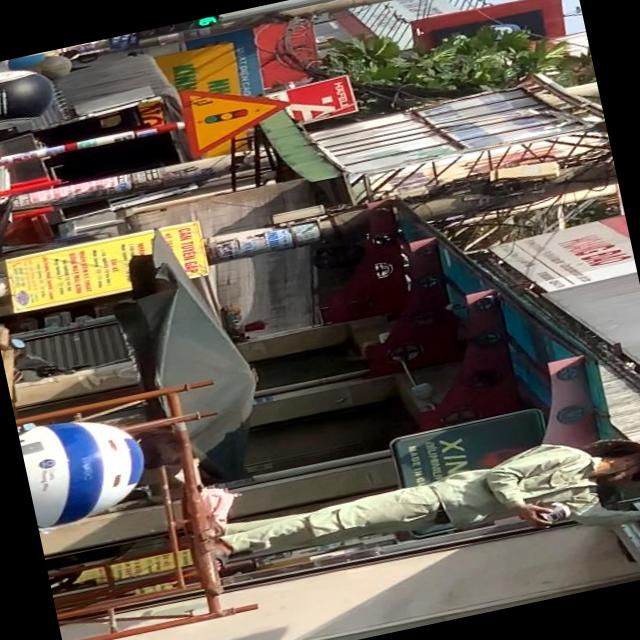W-209: (176, 70, 294, 158)
